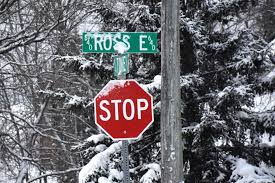stop sign: (95, 78, 155, 141)
